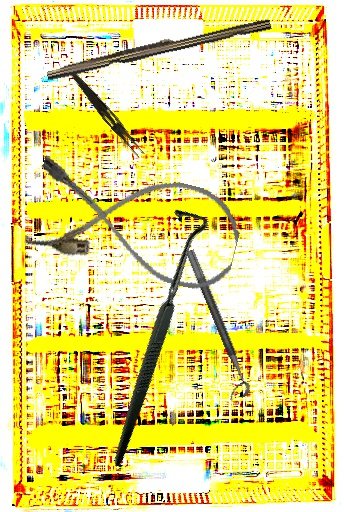Cannula: (22, 149, 249, 297)
Dressing Forceps: (64, 68, 148, 159)
Fixation Ring: (173, 248, 253, 403)
Hook Surgical: (16, 198, 288, 469)
Scalpel Handle: (45, 11, 272, 85)
